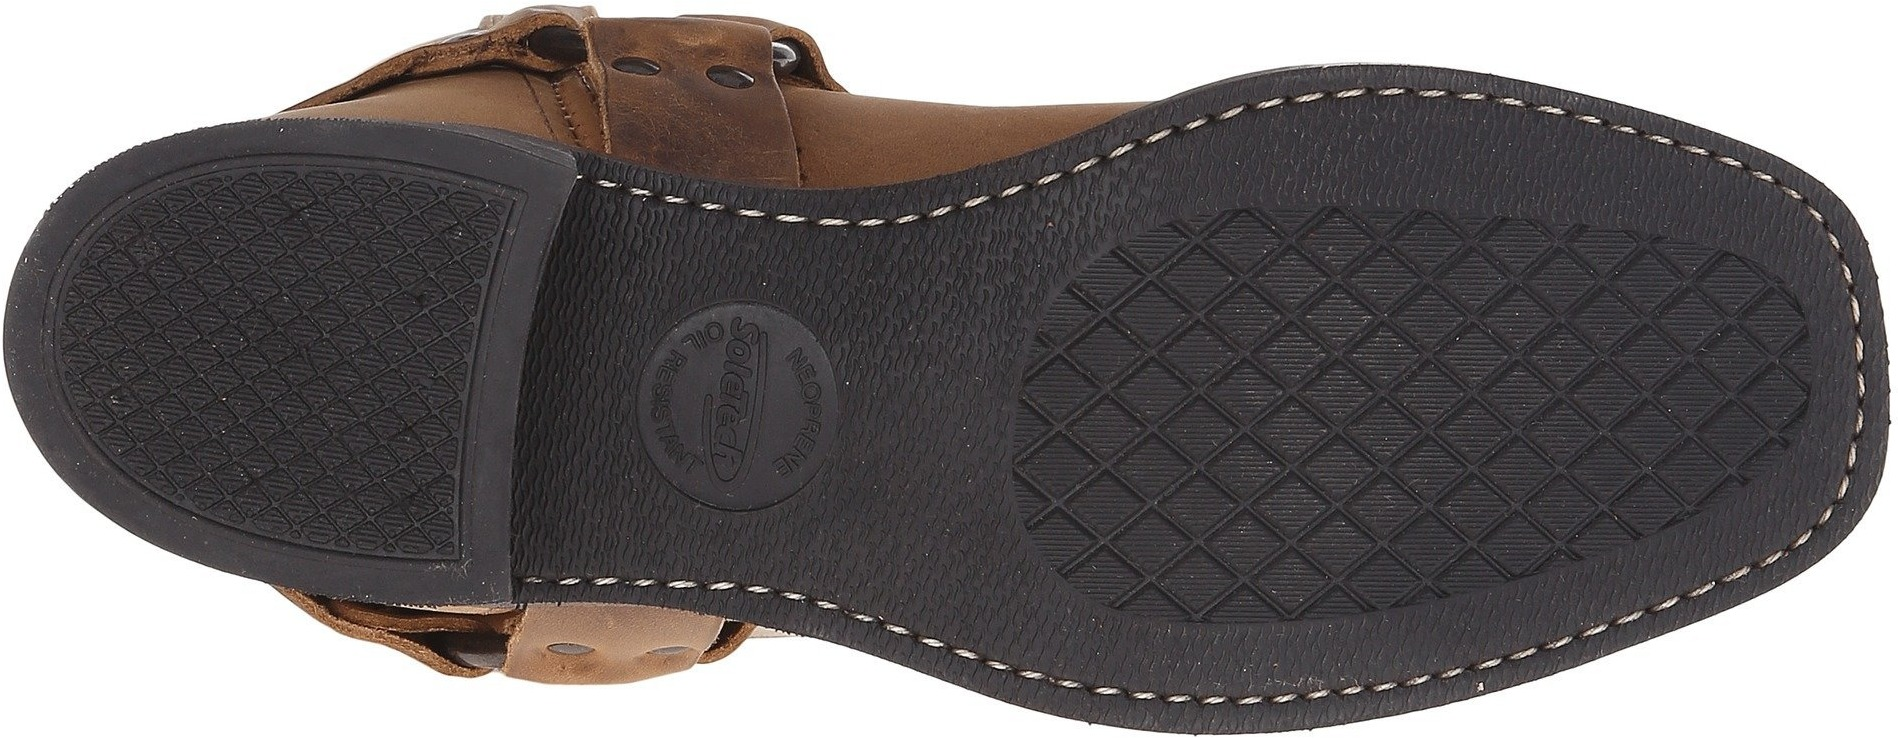quad: (1059, 283, 1312, 527), (1532, 259, 1748, 478), (93, 229, 291, 431), (1325, 224, 1524, 416), (298, 175, 475, 350), (1315, 422, 1485, 599), (297, 393, 445, 542)
